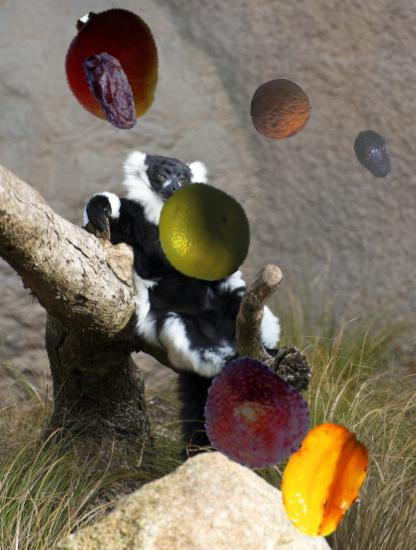Avocado: (347, 128, 400, 181)
Carambula: (266, 421, 384, 539)
Dates: (71, 50, 154, 133)
Mango: (56, 8, 173, 125)
Pomelo: (153, 181, 256, 284)
Salak: (198, 362, 310, 474)
Walnut: (251, 79, 312, 140)
